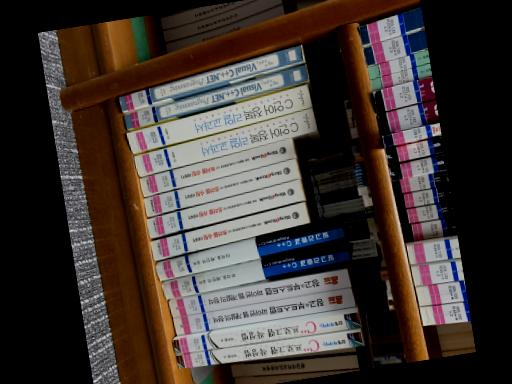book-spine: (125, 85, 311, 153), (132, 108, 316, 176), (118, 45, 304, 112), (154, 216, 345, 281), (123, 64, 308, 129), (161, 239, 350, 300), (149, 201, 308, 260), (142, 158, 298, 216), (145, 180, 302, 237), (167, 268, 349, 317), (139, 139, 293, 196), (171, 288, 354, 335), (170, 313, 360, 354), (174, 332, 362, 368)
